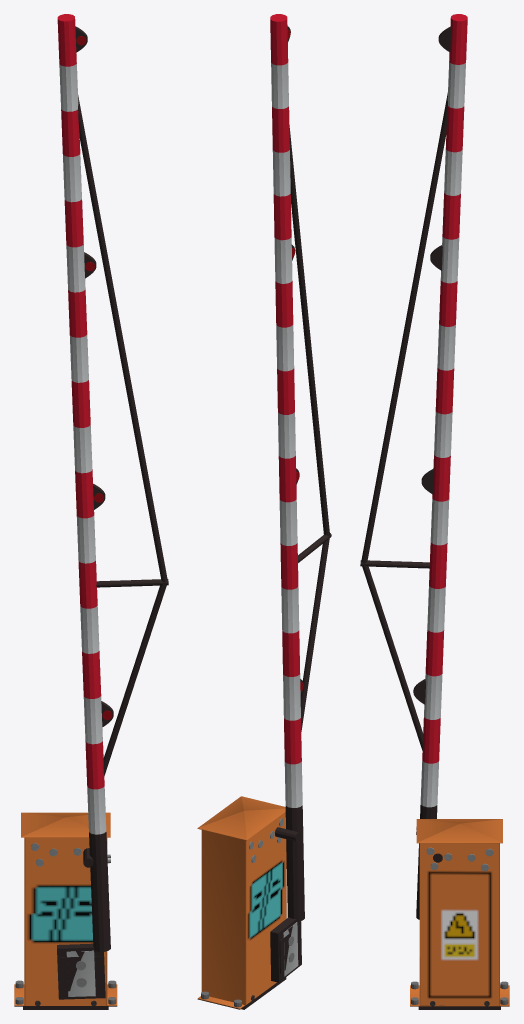
Rendered from rhr-95_4m_lewo.obj.
The picture shows the model from 3 angles, left to right: view 1: azimuth 90°, elevation 25°; view 2: azimuth 150°, elevation 25°; view 3: azimuth 270°, elevation 25°; orthographic projection. The views are drawn at different scales.
Visible parts, largest first — view 1: drag, cuboid; view 2: drag, cuboid; view 3: drag, cuboid.
Part boxes in pixels (x1,y1,x2,y2): drag: (57,14,168,999); cuboid: (14,812,117,1009); drag: (270,14,331,982); cuboid: (197,796,286,1009); drag: (360,14,467,919); cuboid: (410,819,509,1009).
Size of the model in its own units: 0.3991 by 5.53 by 0.7729.
